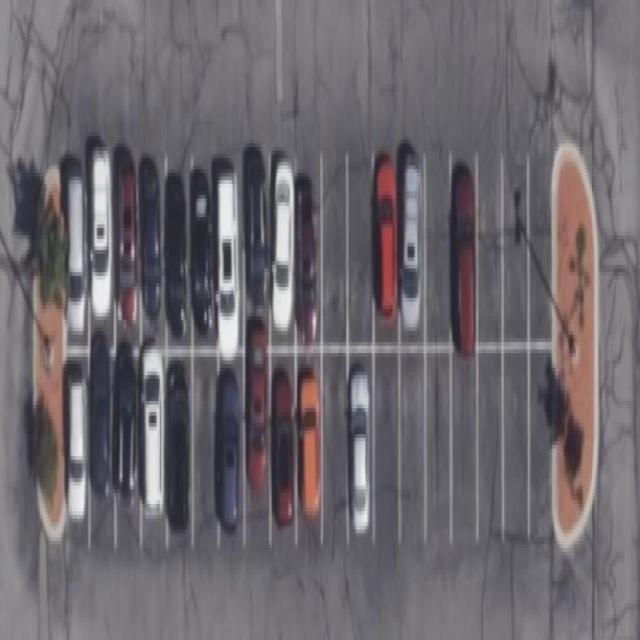Empty: (528, 348, 558, 542), (322, 350, 351, 538), (424, 149, 452, 343), (348, 156, 376, 350), (476, 158, 504, 350), (452, 350, 480, 538), (372, 348, 400, 536), (192, 354, 220, 538), (320, 157, 346, 346), (500, 168, 528, 340), (504, 348, 528, 540), (426, 352, 450, 538), (400, 348, 424, 534), (530, 162, 554, 346), (480, 353, 504, 529)
Parked: (140, 352, 168, 552), (166, 350, 194, 550), (89, 158, 117, 356), (242, 154, 270, 350), (244, 348, 272, 544), (166, 159, 194, 353), (296, 349, 324, 543), (346, 346, 374, 540), (269, 351, 297, 544), (192, 161, 220, 349), (114, 355, 142, 541), (218, 162, 245, 352), (296, 154, 322, 348), (65, 352, 91, 544), (219, 355, 245, 547), (90, 355, 116, 545), (270, 160, 296, 348), (63, 158, 89, 344), (114, 168, 140, 352), (142, 156, 166, 350)
